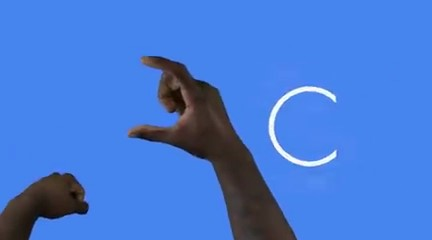C: (123, 46, 236, 173)
